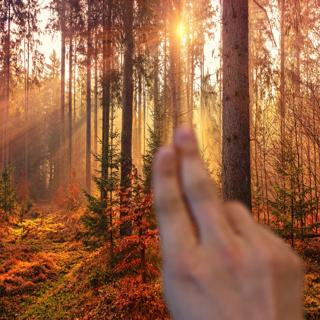DHAVE: (143, 119, 316, 320)
